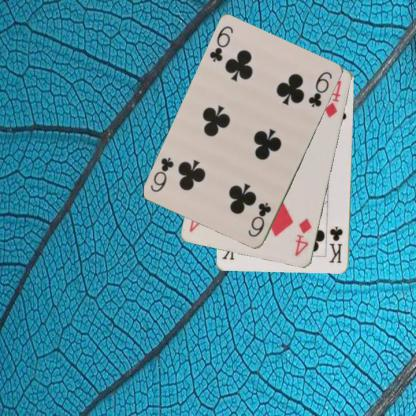4d: (292, 216, 314, 258)
6c: (207, 24, 234, 64), (245, 200, 272, 239)
Kc: (326, 224, 344, 264)
